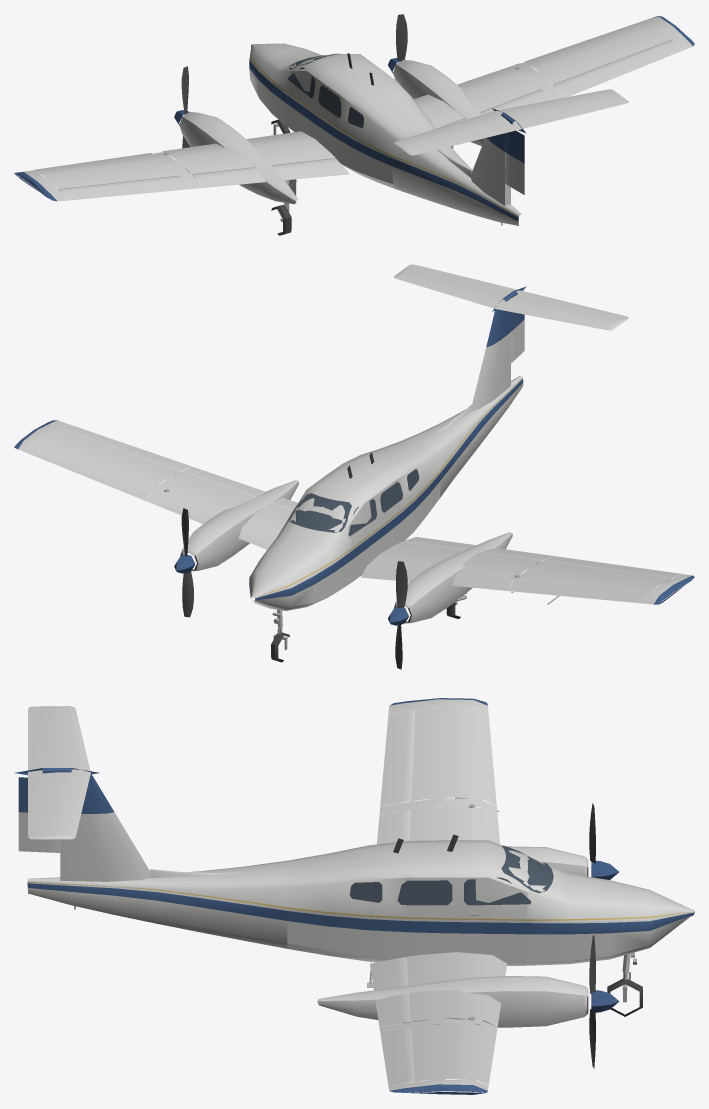
Rendered from seminole-far.glb.
The picture shows the model from 3 angles, top to bottom: view 1: azimuth 30°, elevation 25°; view 2: azimuth 150°, elevation 25°; view 3: azimuth 270°, elevation 25°; orthographic projection. The views are drawn at different scales.
Visible parts, largest first — view 1: body, cabin, stab, flapL, ailR, ailL, rud, flapR, prop.1, gearL, prop.0; view 2: body, cabin, stab, ailR, prop.0, prop.1, flapL, flapR, ailL, rud; view 3: body, cabin, stab, ailL, flapR, ailR, rud, prop.1, flapL, prop.0, gearN.
Part boxes in pixels (box(x1,y1,x2,y2)): body: box(14, 16, 694, 225); cabin: box(249, 43, 435, 189); stab: box(394, 89, 628, 155); flapL: box(192, 158, 349, 187); ailR: box(554, 40, 681, 97); ailL: box(59, 176, 192, 200); rud: box(505, 130, 524, 194); flapR: box(444, 89, 551, 126); prop.1: box(388, 14, 407, 73); gearL: box(271, 179, 297, 235); prop.0: box(174, 66, 189, 172); body: box(14, 286, 694, 623); cabin: box(249, 441, 441, 610); stab: box(394, 264, 628, 330); ailR: box(59, 424, 191, 474); prop.0: box(388, 561, 408, 669); prop.1: box(174, 508, 195, 617); flapL: box(402, 537, 553, 564); flapR: box(192, 470, 297, 510); ailL: box(554, 557, 681, 581); rud: box(510, 312, 524, 362); body: box(15, 698, 588, 1094); cabin: box(287, 834, 694, 965); stab: box(28, 706, 90, 839); ailL: box(380, 710, 414, 806); flapR: box(370, 957, 412, 1026); ailR: box(380, 1027, 416, 1085); rud: box(18, 777, 60, 852); prop.1: box(589, 935, 619, 1068); flapL: box(377, 810, 410, 844); prop.0: box(589, 803, 618, 879); gearN: box(607, 952, 642, 1016).
Size of the model in its own units: 11.78 by 3.48 by 8.67.
